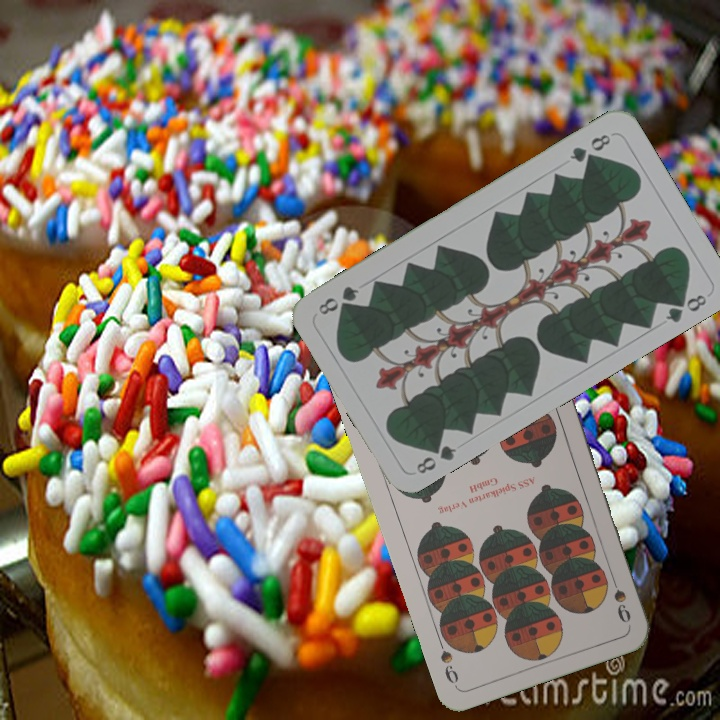G8: (412, 437, 459, 477), (565, 130, 613, 165)
S9: (606, 568, 634, 626)
